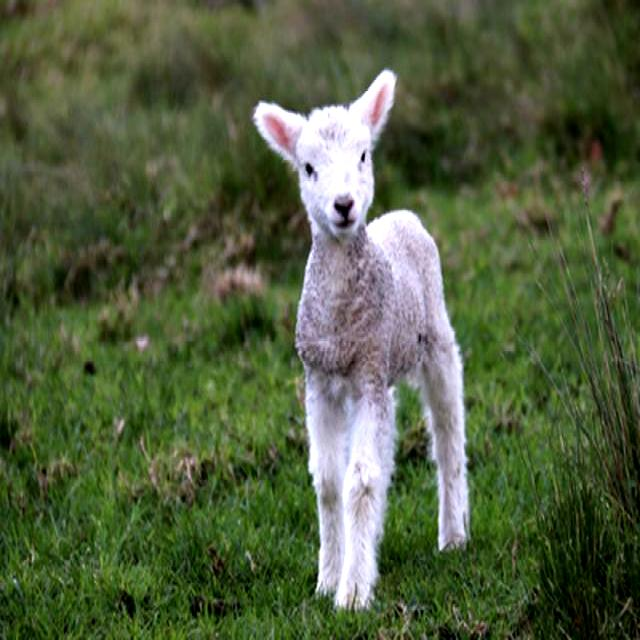sheep: (257, 69, 468, 608)
